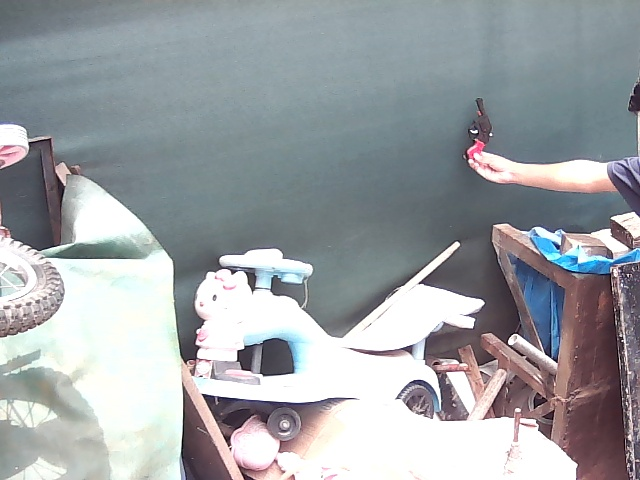pistola: (461, 94, 501, 158)
